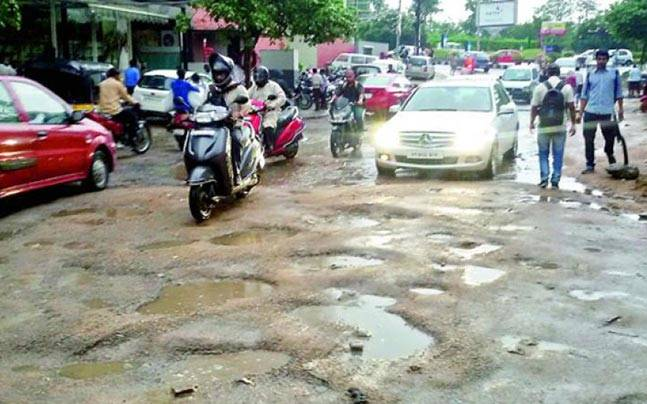pothole: (303, 275, 457, 403), (136, 257, 268, 328), (197, 224, 309, 274), (63, 301, 133, 380), (317, 182, 386, 251)
